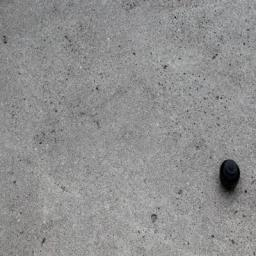FOD: (216, 156, 244, 195)
